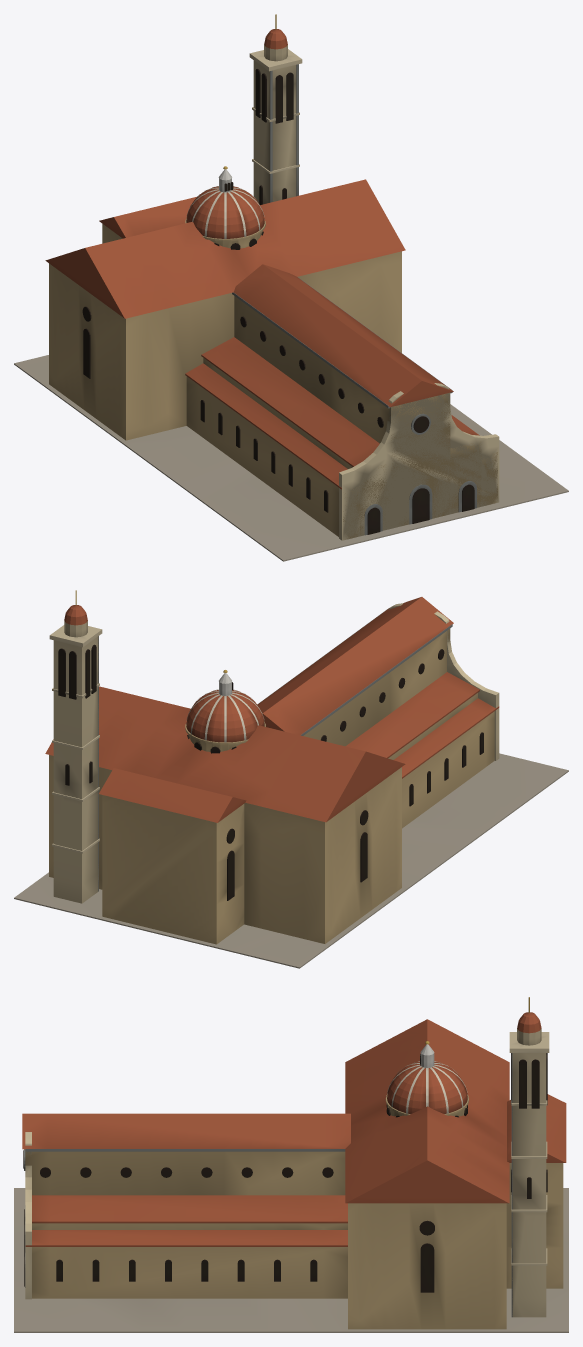
Rendered from santo-spirito-1600.glb.
3 views of the same model, one above another, from view 1: azimuth 30°, elevation 25°; view 2: azimuth 150°, elevation 25°; view 3: azimuth 270°, elevation 25° (orthographic). The views are drawn at different scales.
Visible parts, largest first — view 1: p0_walls, p1_roofs, p2_dome; view 2: p0_walls, p1_roofs, p2_dome; view 3: p0_walls, p1_roofs, p2_dome.
Part boxes in pixels (box(x1,y1,x2,y2)): p0_walls: box(14, 224, 568, 561); p1_roofs: box(45, 179, 479, 489); p2_dome: box(185, 14, 302, 249); p0_walls: box(14, 603, 568, 968); p1_roofs: box(45, 597, 499, 822); p2_dome: box(49, 590, 265, 903); p0_walls: box(14, 1132, 568, 1332); p1_roofs: box(22, 1019, 566, 1246); p2_dome: box(385, 997, 549, 1317).
Bounding box in the file's own units: 60 × 61.24 × 98.
